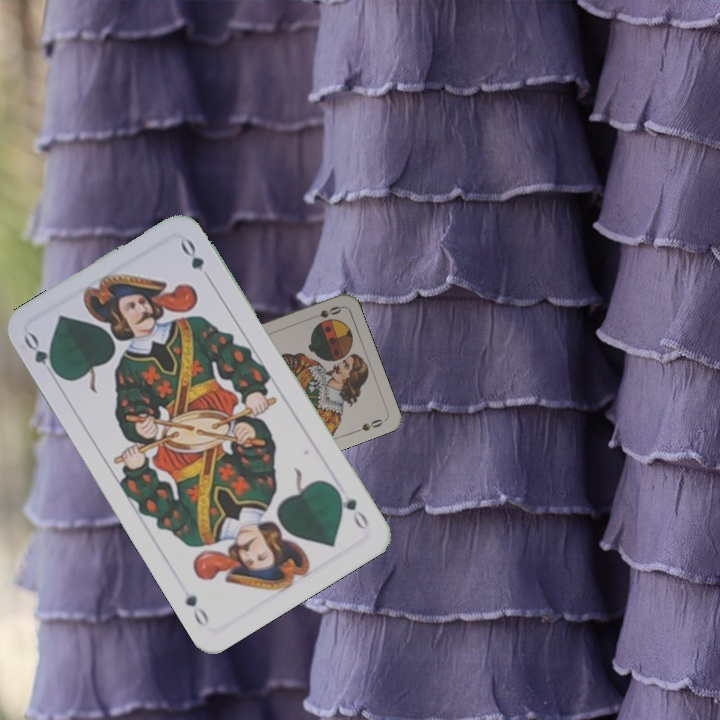GO: (19, 329, 63, 383), (330, 483, 372, 533)
SO: (304, 302, 344, 323)
